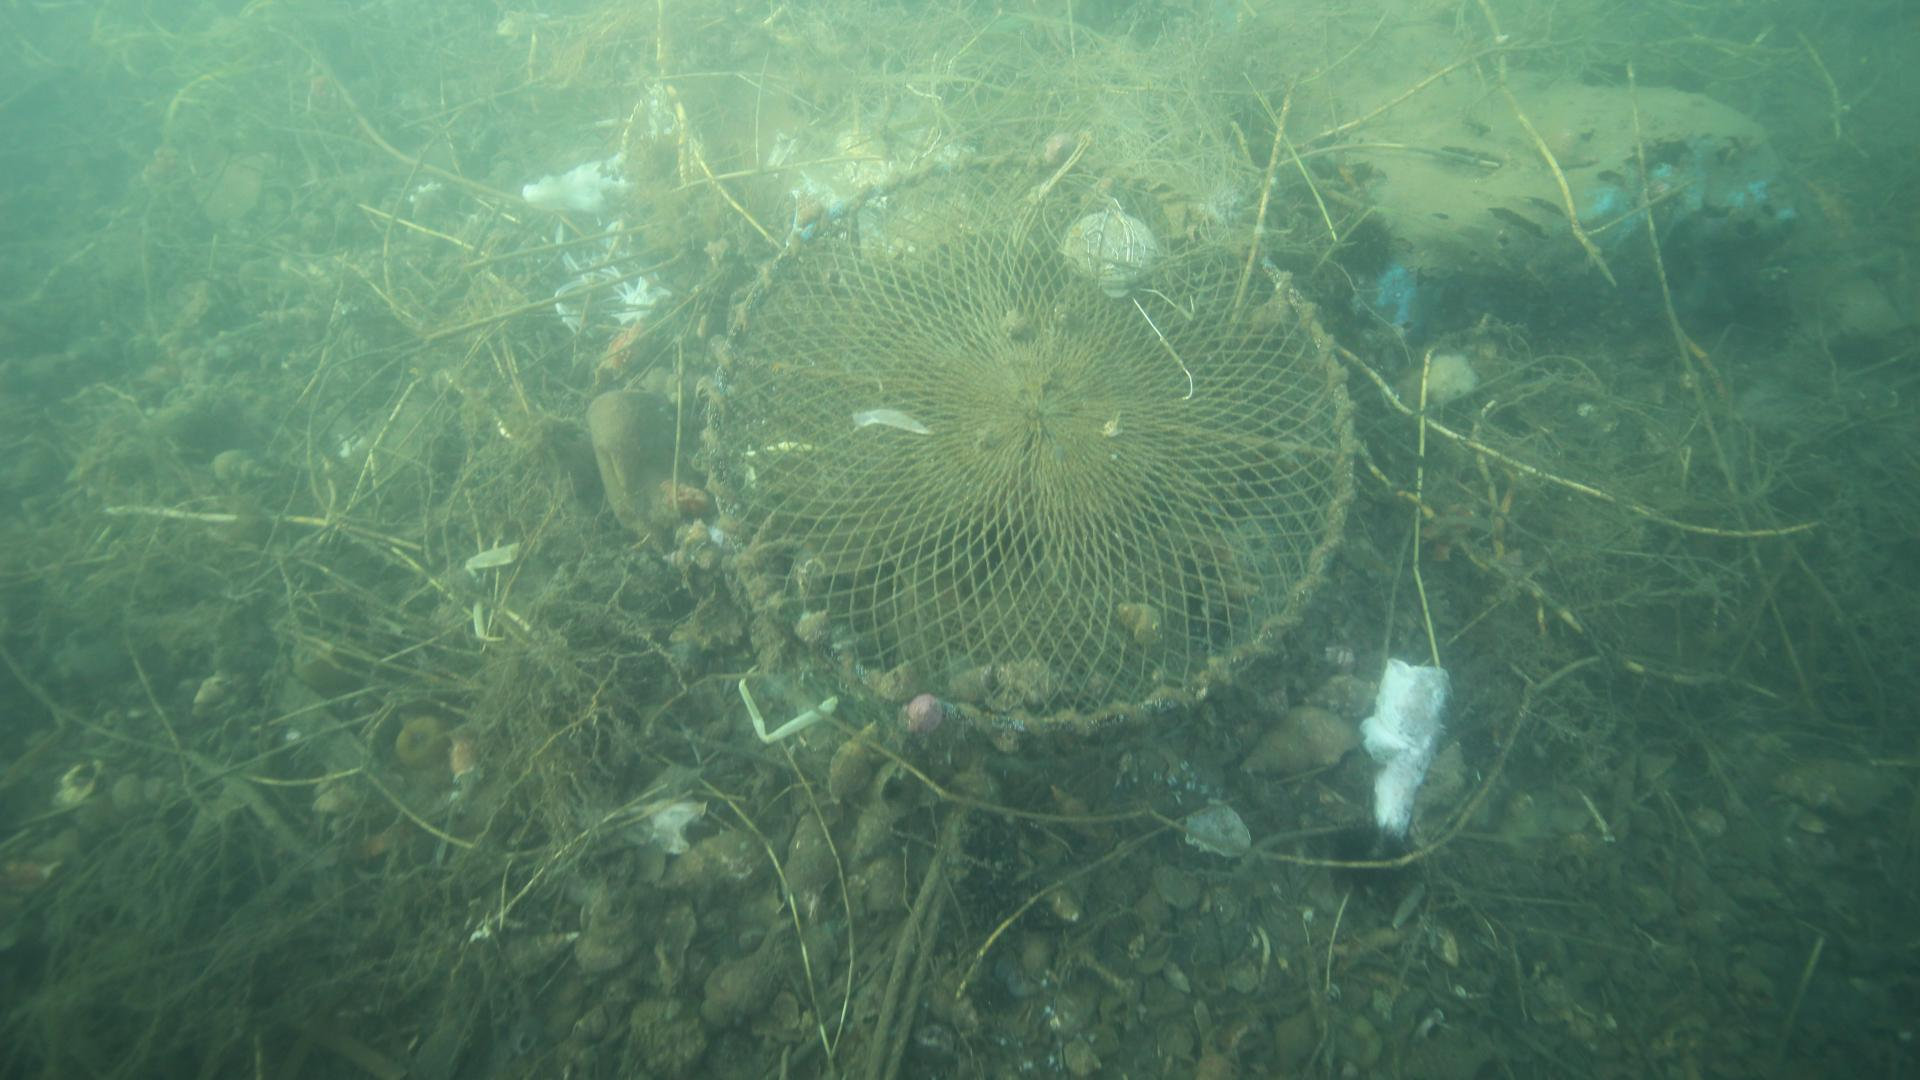bundle of ropes: (858, 802, 964, 1080)
circular fish trap: (694, 145, 1371, 742)
